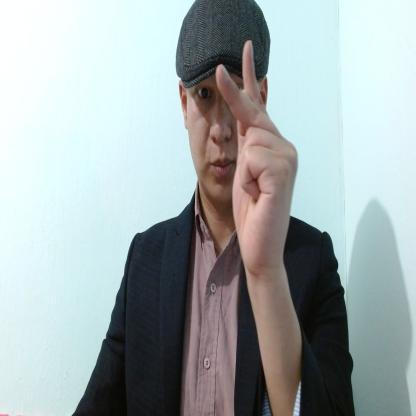P: (215, 38, 299, 272)
